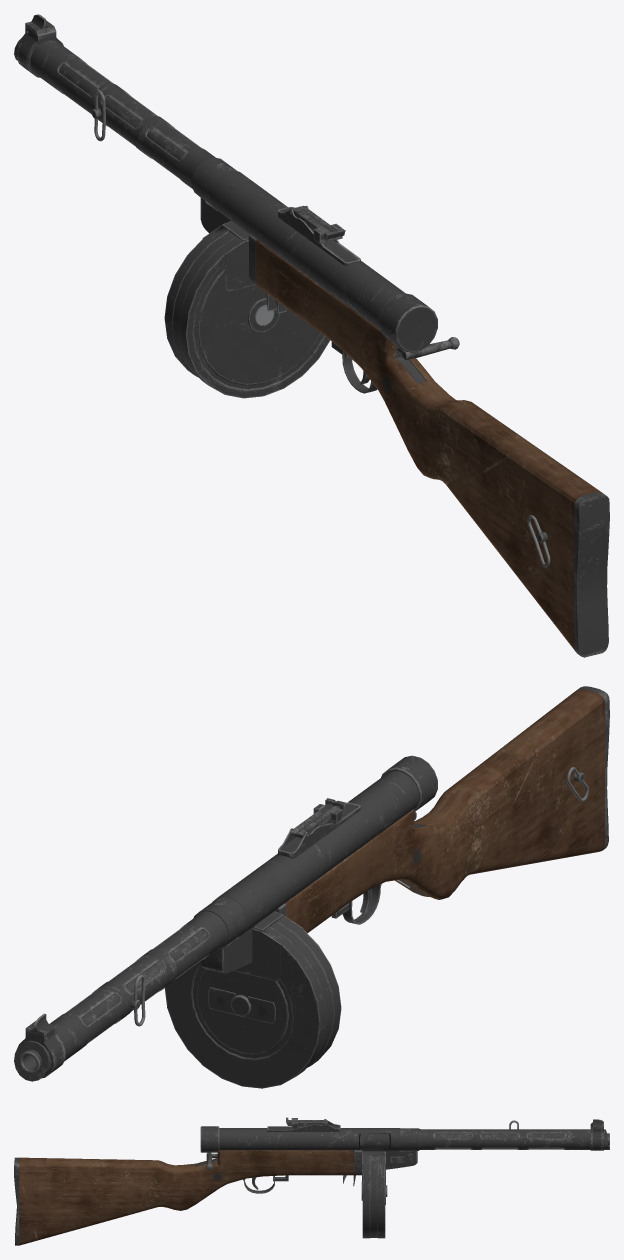
File: ge_suomi.gltf
The picture shows the model from 3 angles, top to bottom: view 1: azimuth 30°, elevation 25°; view 2: azimuth 150°, elevation 25°; view 3: azimuth 270°, elevation 25°; orthographic projection. The views are drawn at different scales.
Visible parts, largest first — view 1: Body, Magazine; view 2: Body, Magazine; view 3: Body, Magazine, Ejector.
Boxes of the visible parts, x1,y1,x2,y2 form: Body: [14, 14, 609, 657]; Magazine: [164, 221, 330, 398]; Body: [14, 686, 609, 1081]; Magazine: [164, 911, 341, 1088]; Body: [14, 1117, 609, 1245]; Magazine: [361, 1151, 387, 1238]; Ejector: [360, 1133, 389, 1147].
Bounding box in the file's own units: 0.1387 × 0.2003 × 0.8749.
Materials: 1 (1 with a texture image).
